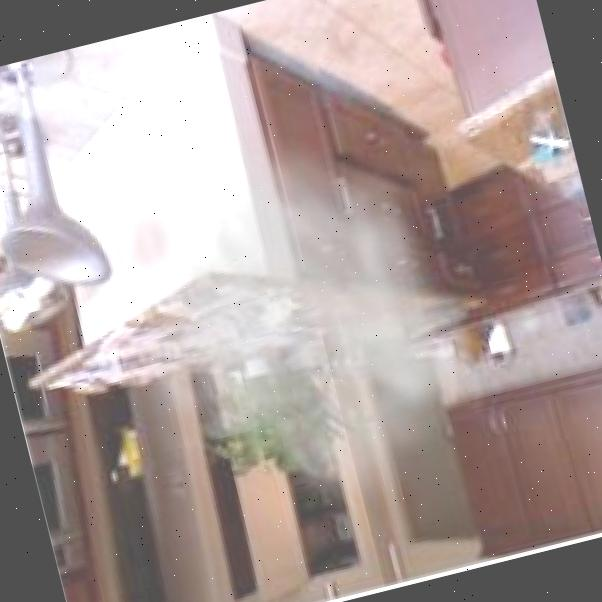smoke: (65, 86, 503, 565)
